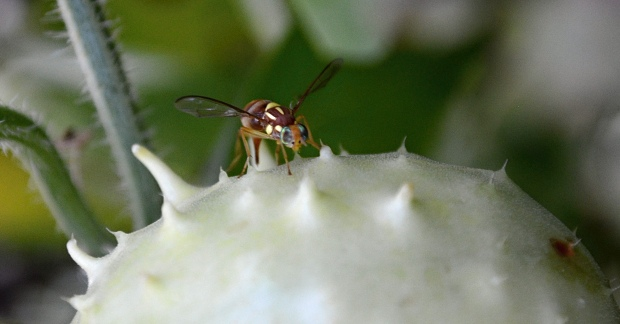Fruit fly: (189, 73, 346, 178)
